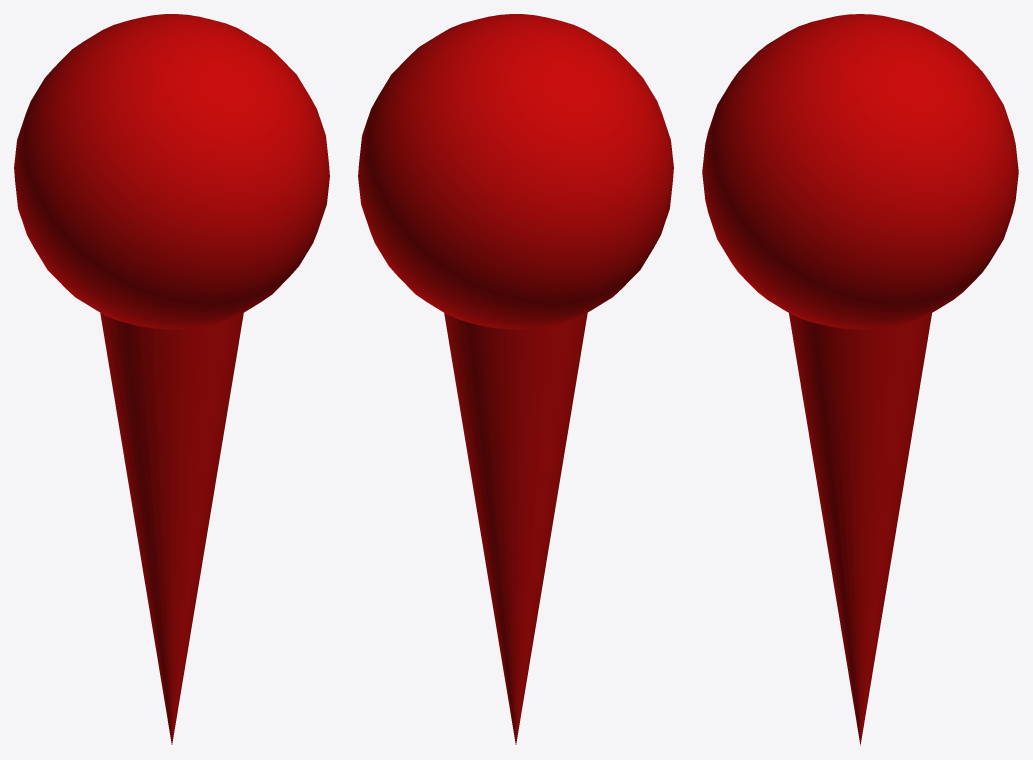
Rendered from checkpoint.dae.
The picture shows the model from 3 angles, left to right: view 1: azimuth 30°, elevation 25°; view 2: azimuth 150°, elevation 25°; view 3: azimuth 270°, elevation 25°; orthographic projection.
Parts seen in each view (by area): view 1: Ball, Cone; view 2: Ball, Cone; view 3: Ball, Cone.
Part boxes in pixels (box(x1,y1,x2,y2)): Ball: box(14, 14, 329, 329); Cone: box(100, 313, 243, 744); Ball: box(358, 14, 673, 329); Cone: box(444, 313, 587, 744); Ball: box(702, 14, 1018, 329); Cone: box(789, 313, 931, 745).
Bounding box in the file's own units: 100 × 250 × 100.
